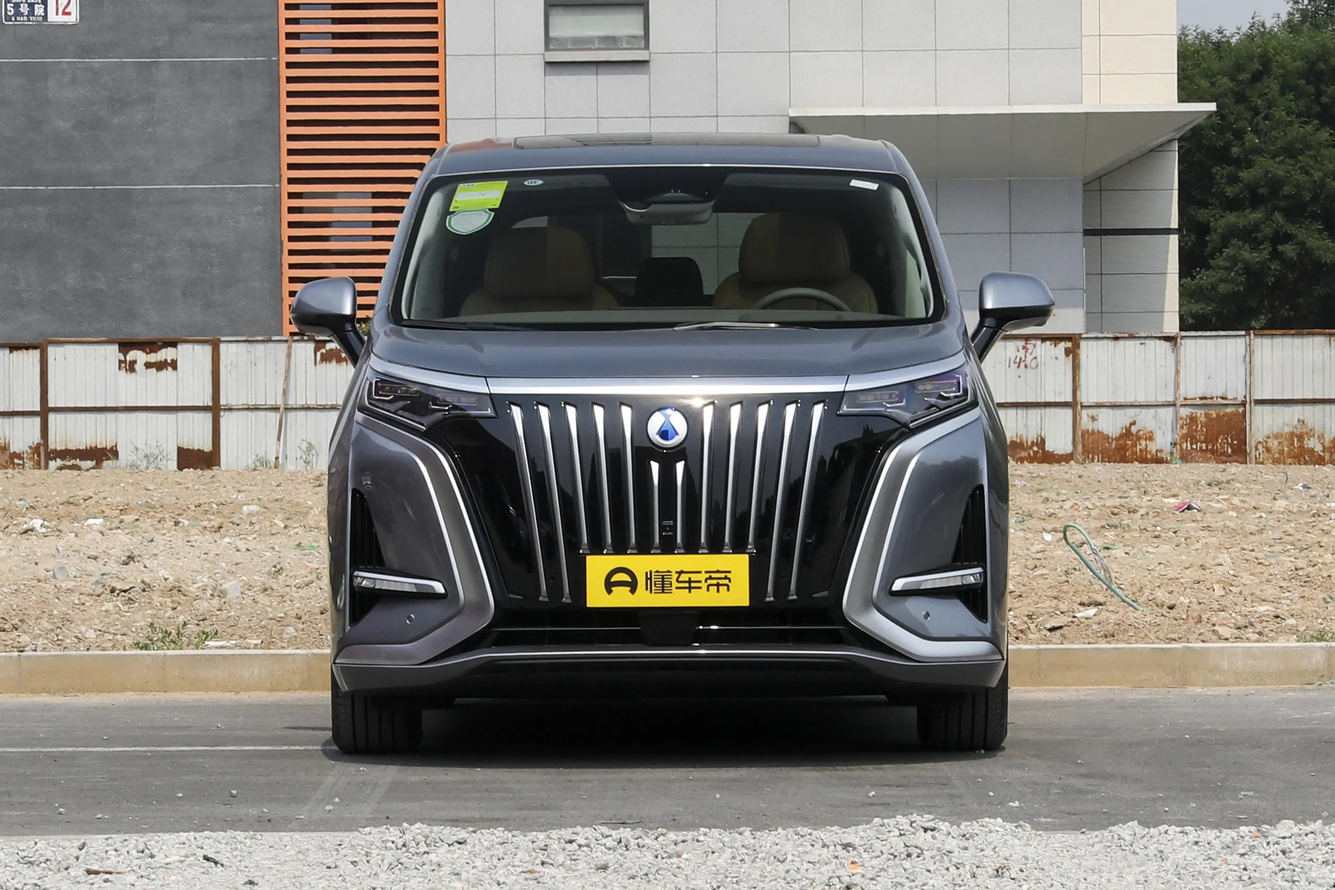DENZA: (648, 408, 687, 447)
